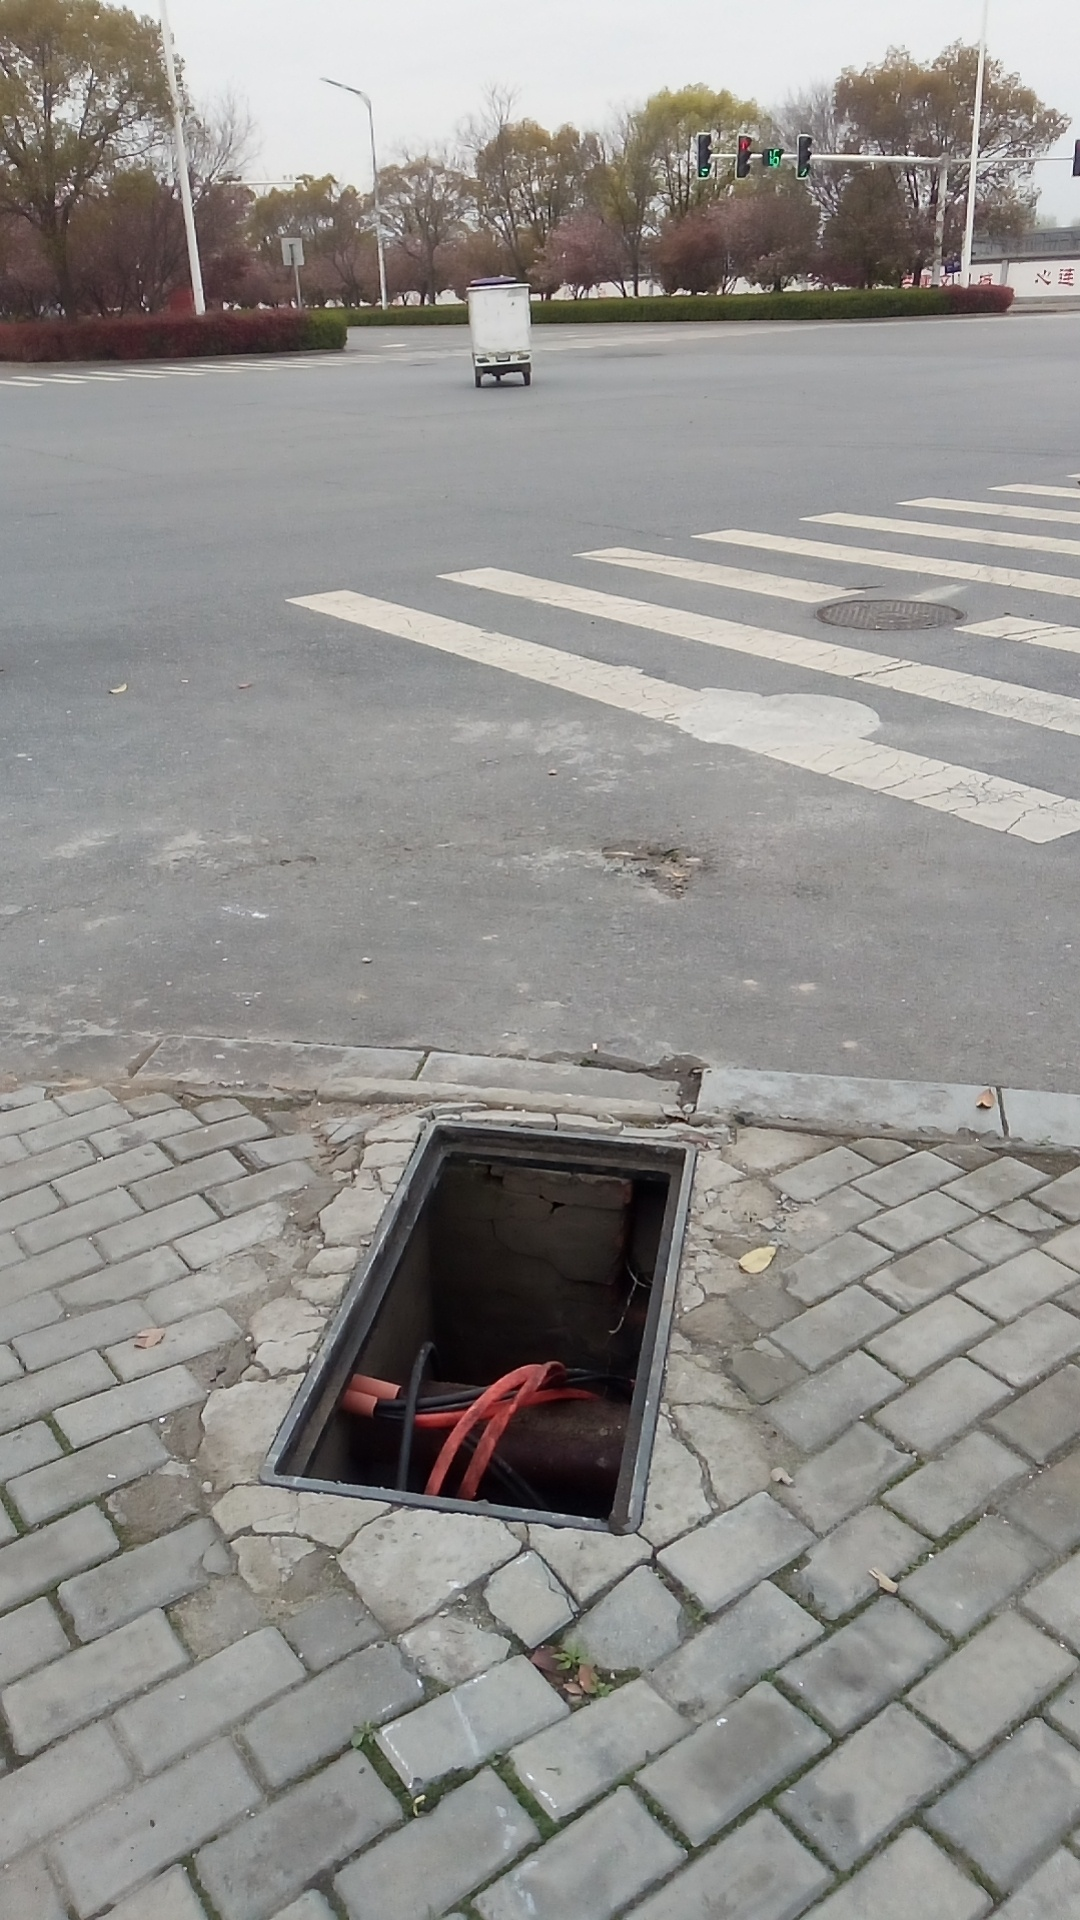lose: (253, 1118, 702, 1539)
